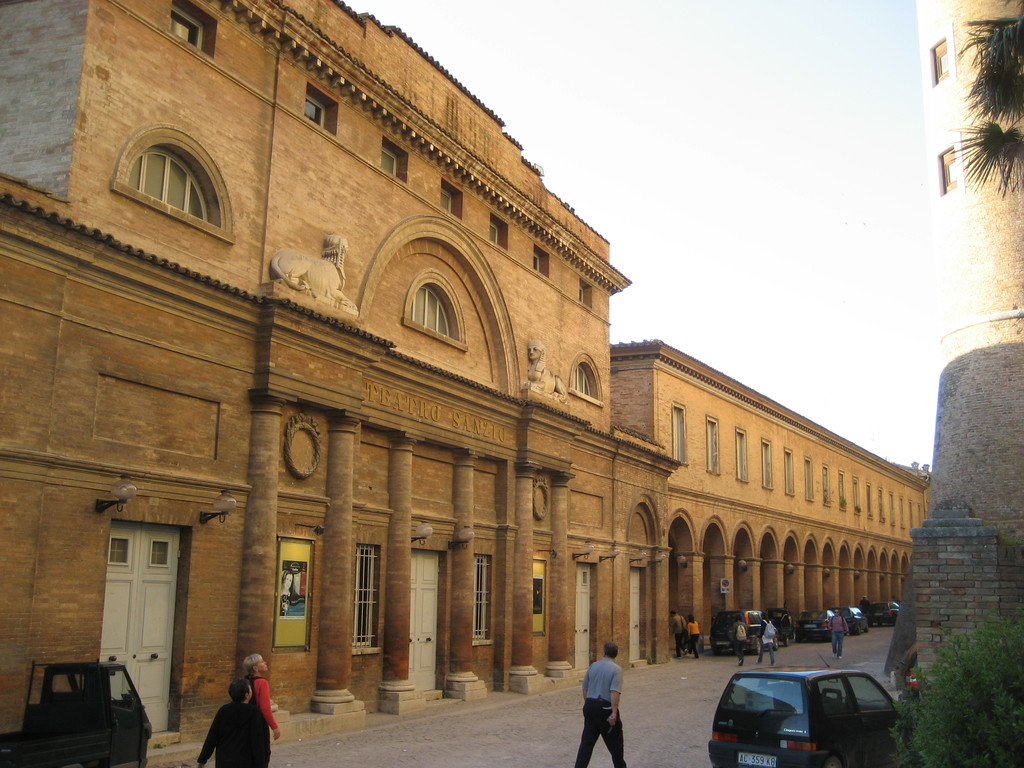Car: (708, 651, 910, 766), (708, 608, 778, 653), (794, 606, 832, 641), (823, 606, 868, 632), (863, 602, 899, 624)
